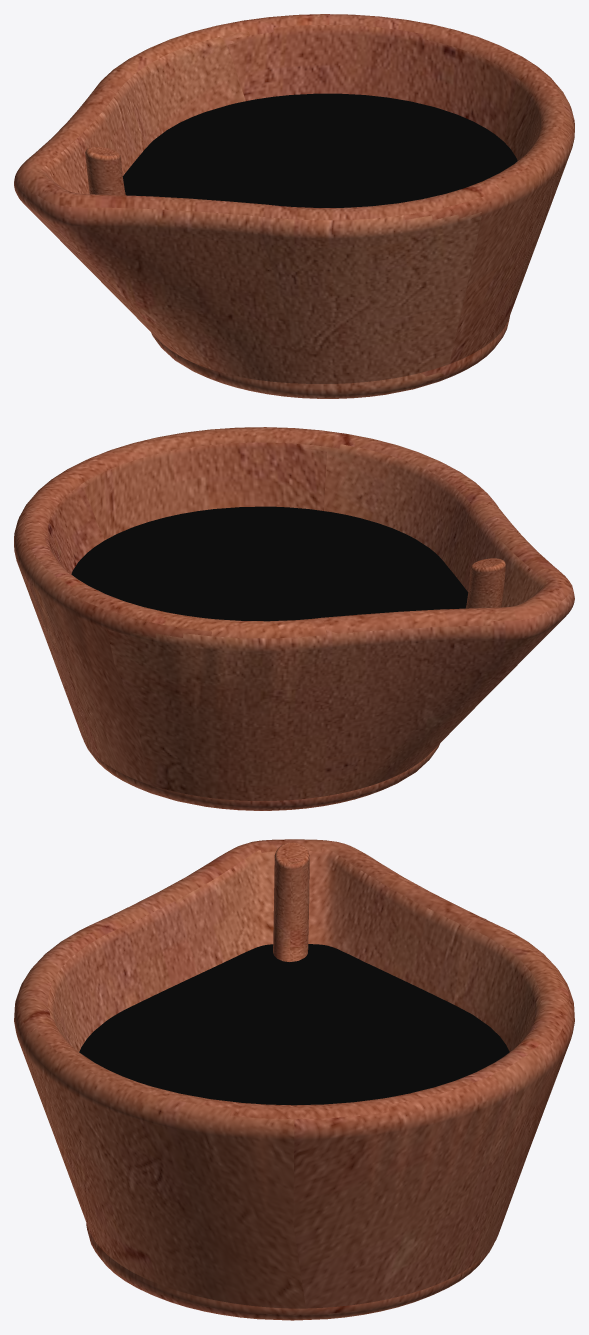
File: panati.obj
3 renders of one model, top to bottom at view 1: azimuth 30°, elevation 25°; view 2: azimuth 150°, elevation 25°; view 3: azimuth 270°, elevation 25°, orthographic. The views are drawn at different scales.
Parts seen in each view (by area): view 1: 64, object_1, object_3; view 2: 64, object_1, object_3; view 3: 64, object_1, object_3.
Boxes of the visible parts, x1,y1,x2,y2 form: 64: (14,14,574,398); object_1: (122,93,517,207); object_3: (85,146,125,195); 64: (14,427,574,810); object_1: (71,506,468,621); object_3: (465,558,505,608); 64: (14,839,574,1320); object_1: (79,944,509,1105); object_3: (273,842,309,961).
Size of the model in its own units: 8.13 by 3.55 by 6.8.
